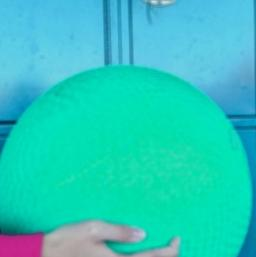algae: (1, 64, 250, 257)
